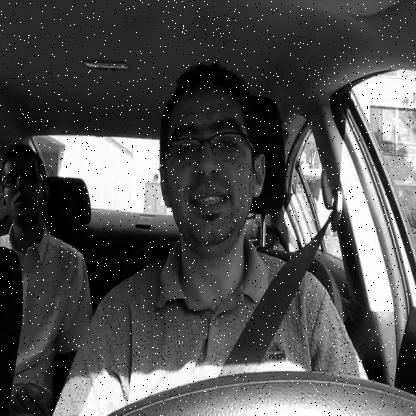seatbelt: (148, 34, 346, 376)
